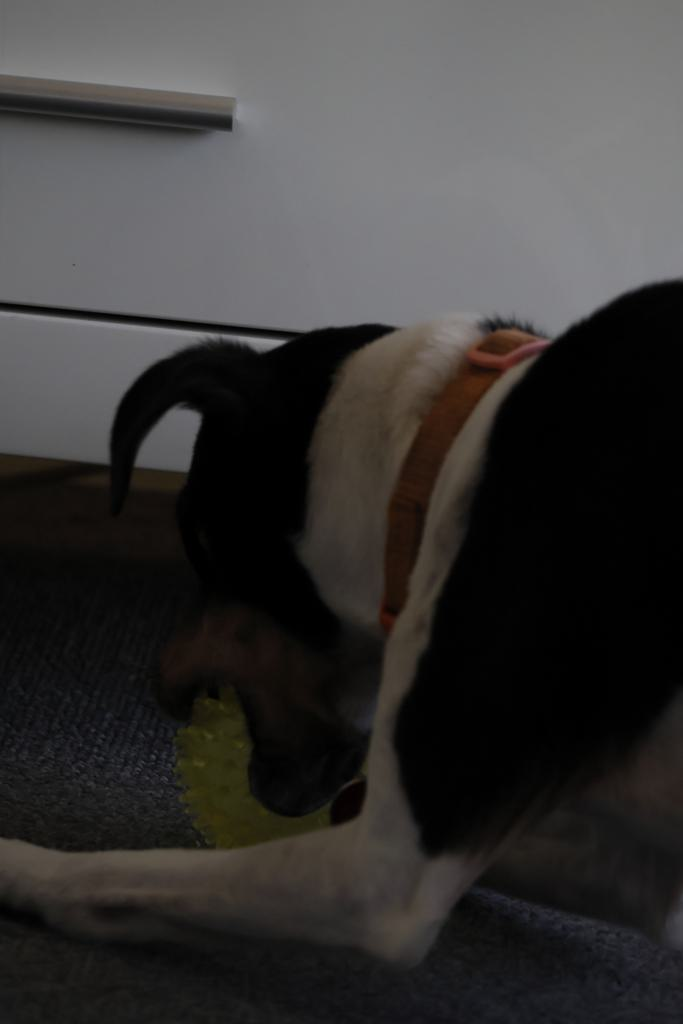Dog: (0, 261, 683, 1024)
